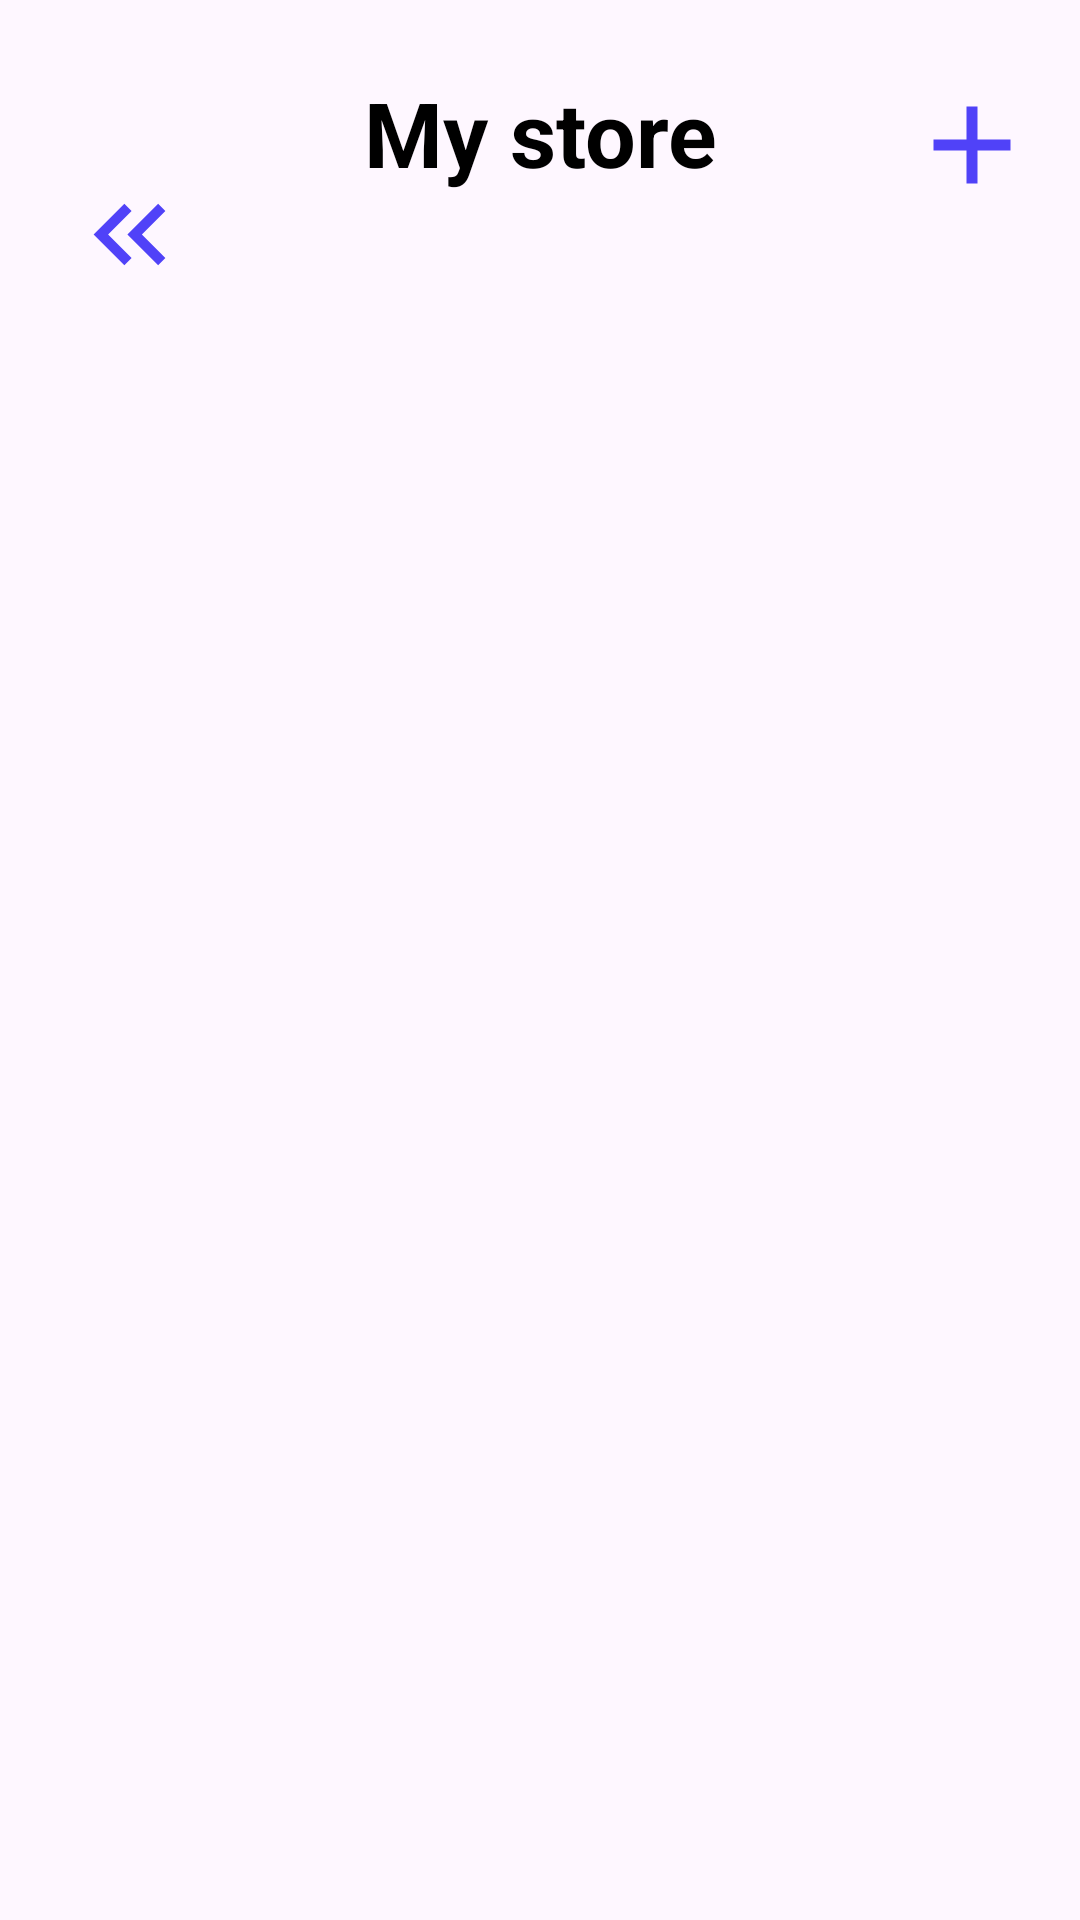

Icons on this 1080px x 1920px Android screen, each with the point to tap as point (x, y):
add: point (972, 145)
return left: point (129, 234)
